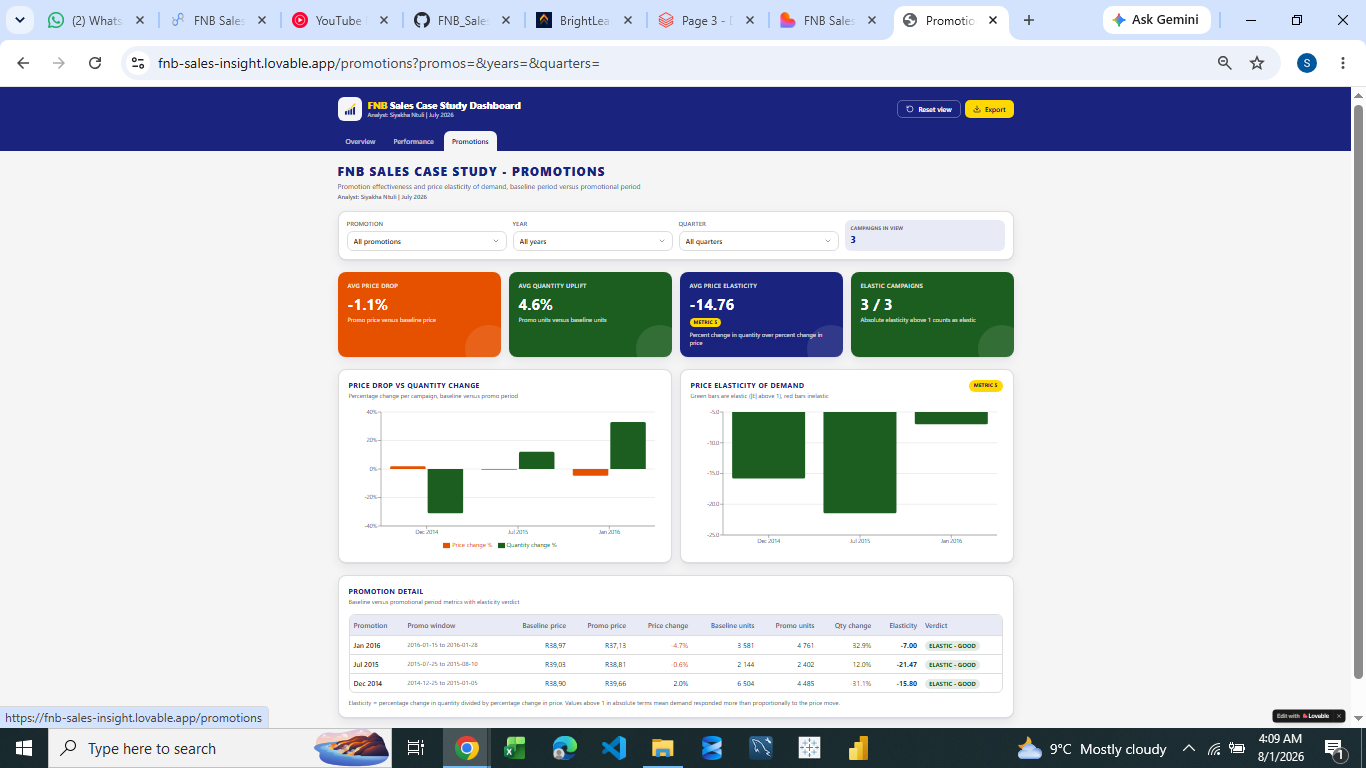

This screenshot's page, from the dashboard's own definition file:
{"tool":"powerbi","page":{"name":"Promotions","canvas":[1280,800],"ordinal":2},"visuals":[{"type":"textbox","box":[0,0,1280,123.8],"z":1},{"type":"slicer","title":"Select Year","fields":{"Values":["FNB_POWER__BI (1).Year"]},"box":[0,132.5,315,107.5],"z":2},{"type":"slicer","title":"Select Quater","fields":{"Values":["FNB_POWER__BI (1).Quarter"]},"box":[315,132.5,293.8,107.5],"z":3},{"type":"slicer","title":"Selet Promo","fields":{"Values":["FNB_POWER__BI (1).Promo_Name"]},"box":[608.8,132.5,333.8,107.5],"z":4},{"type":"slicer","title":"Select  Day","fields":{"Values":["FNB_POWER__BI (1).Promo_Name.Variation.Date Hierarchy.Day"]},"box":[942.5,132.5,337.5,107.5],"z":5},{"type":"cardVisual","title":"Dec 2014 Drop","fields":{"Data":["Max(FNB_POWER__BI (1).Dec_2014_Drop)"]},"box":[0,240,315,97.5],"z":6},{"type":"cardVisual","title":"Jul 2015 Drop","fields":{"Data":["Max(FNB_POWER__BI (1).Jul_2015_Drop)"]},"box":[315,240,315,97.5],"z":7},{"type":"tableEx","title":"Promotional Periods Table","fields":{"Values":["FNB_POWER__BI (1).Promo_Name.Variation.Date Hierarchy.Year","FNB_POWER__BI (1).Promo_Name.Variation.Date Hierarchy.Quarter","Sum(FNB_POWER__BI (1).Price_Drop_Pct)","Sum(FNB_POWER__BI (1).Qty_Change_Pct)","Sum(FNB_POWER__BI (1).Price_Elasticity)","FNB_POWER__BI (1).Performance"]},"box":[0,353.8,630,203.8],"z":8},{"type":"columnChart","title":"Promotion Impact","fields":{"Category":["FNB_POWER__BI (1).Promo_Name.Variation.Date Hierarchy.Year","FNB_POWER__BI (1).Promo_Name.Variation.Date Hierarchy.Quarter"],"Y":["Max(FNB_POWER__BI (1).Price_Drop_Pct)","Max(FNB_POWER__BI (1).Qty_Change_Pct)"]},"box":[640,353.8,630,203.8],"z":9},{"type":"columnChart","title":"Price Elasticity Bar Chart","fields":{"Category":["FNB_POWER__BI (1).Promo_Name.Variation.Date Hierarchy.Year","FNB_POWER__BI (1).Promo_Name.Variation.Date Hierarchy.Quarter"],"Y":["Max(FNB_POWER__BI (1).Price_Elasticity)"]},"box":[0,567.5,630,203.8],"z":10},{"type":"tableEx","title":"Daily Metrics Table","fields":{"Values":["FNB_POWER__BI (1).Date.Variation.Date Hierarchy.Quarter","FNB_POWER__BI (1).Date.Variation.Date Hierarchy.Day","Sum(FNB_POWER__BI (1).Unit_Price)","Sum(FNB_POWER__BI (1).Gross_Profit_Pct)","Sum(FNB_POWER__BI (1).GP_Per_Unit_Pct)","Sum(FNB_POWER__BI (1).Quantity Sold)"]},"box":[640,567.5,630,203.8],"z":11},{"type":"cardVisual","title":"Jan 2016 Drop","fields":{"Data":["Max(FNB_POWER__BI (1).Jan_2016_Drop)"]},"box":[630,240,300,97.5],"z":12},{"type":"cardVisual","title":"Avg Easticity","fields":{"Data":["Max(FNB_POWER__BI (1).Avg_Elasticity)"]},"box":[930,240,350,97.5],"z":13}]}

Visuals, with their boxes on the page's 1280x800 design canvas (x1, y1, x2, y2). These are canvas units, not pixel positions in the 1366x768 screenshot, which may show the page scaled, cropped or inside an application window:
textbox: box=[0, 0, 1280, 124]
"Select Year" slicer: box=[0, 132, 315, 240]
"Select Quater" slicer: box=[315, 132, 609, 240]
"Selet Promo" slicer: box=[609, 132, 943, 240]
"Select  Day" slicer: box=[942, 132, 1280, 240]
"Dec 2014 Drop" cardVisual: box=[0, 240, 315, 338]
"Jul 2015 Drop" cardVisual: box=[315, 240, 630, 338]
"Promotional Periods Table" tableEx: box=[0, 354, 630, 558]
"Promotion Impact" columnChart: box=[640, 354, 1270, 558]
"Price Elasticity Bar Chart" columnChart: box=[0, 568, 630, 771]
"Daily Metrics Table" tableEx: box=[640, 568, 1270, 771]
"Jan 2016 Drop" cardVisual: box=[630, 240, 930, 338]
"Avg Easticity" cardVisual: box=[930, 240, 1280, 338]
